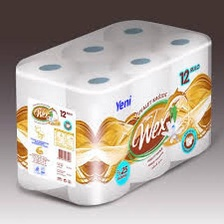tissue: (8, 13, 217, 212)
